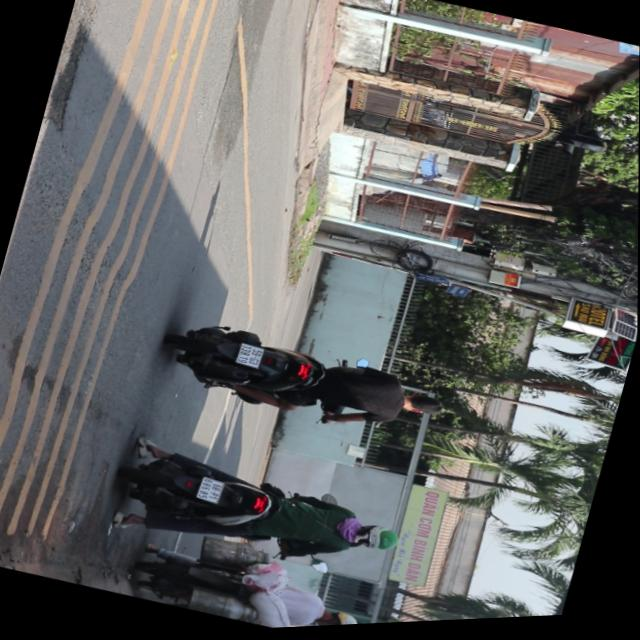helmet: (355, 522, 404, 560), (317, 607, 362, 629)
licenseplate: (107, 429, 414, 597), (155, 302, 454, 460), (127, 536, 370, 635)
motorcyclist: (402, 391, 445, 423)
nohelmet: (197, 478, 226, 506), (236, 344, 264, 370)
